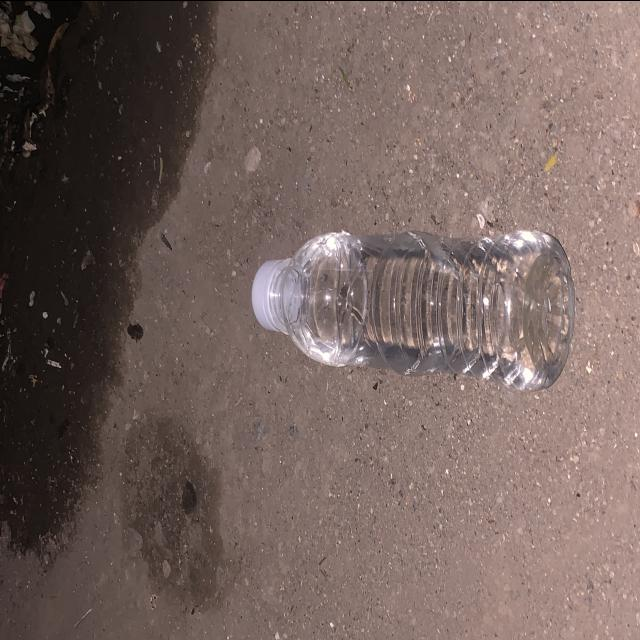Bottle: (252, 229, 576, 390)
